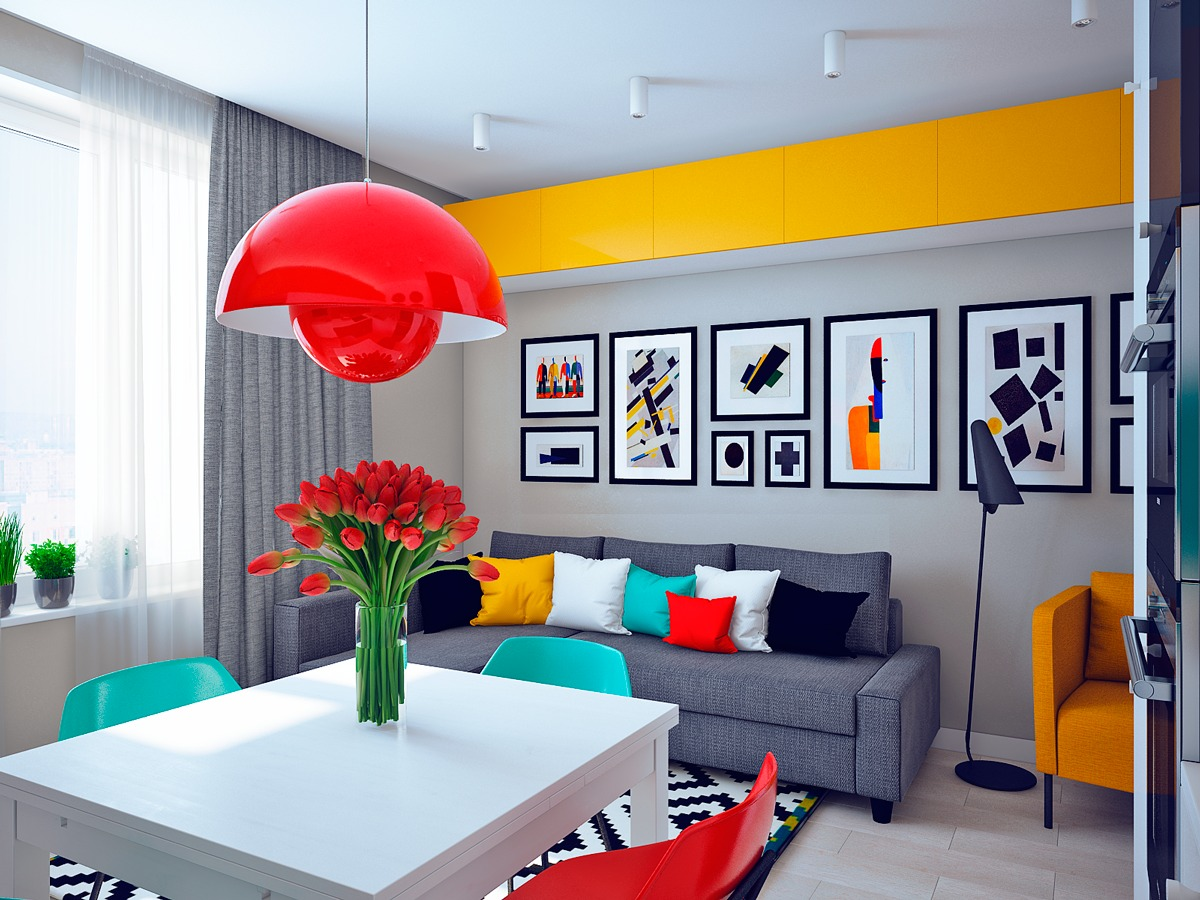biru: (54, 667, 242, 733), (489, 640, 628, 686), (626, 566, 663, 632)
hitam: (774, 573, 853, 654), (969, 422, 1027, 511), (423, 561, 468, 634)
kuning: (1032, 570, 1137, 791), (470, 554, 553, 622)
merah: (213, 183, 507, 373), (515, 755, 777, 897), (665, 589, 735, 653)
putih: (2, 664, 673, 841), (552, 552, 621, 629)
